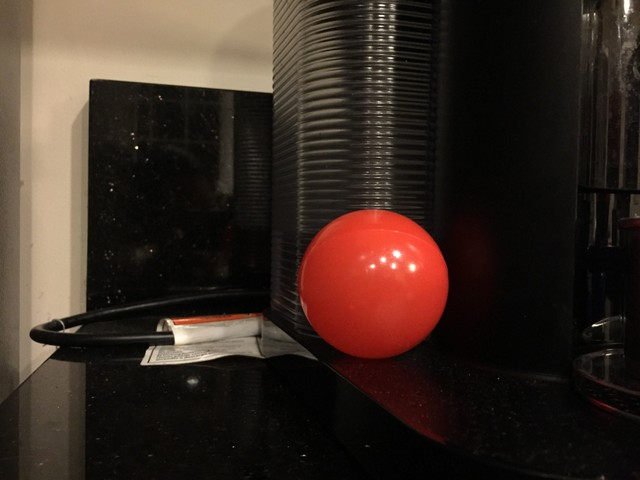Ball: (295, 208, 450, 362)
